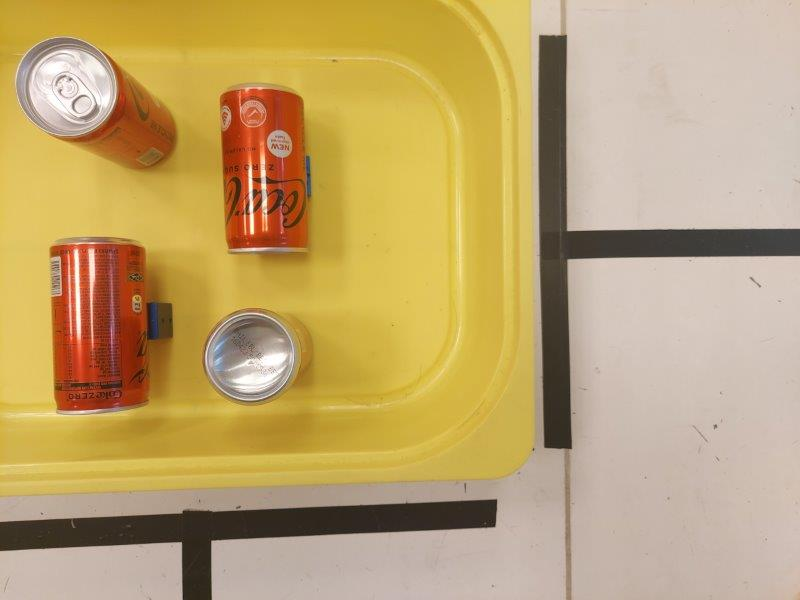Coke: (13, 37, 179, 171), (48, 236, 148, 412), (220, 83, 306, 254), (201, 309, 316, 404)
